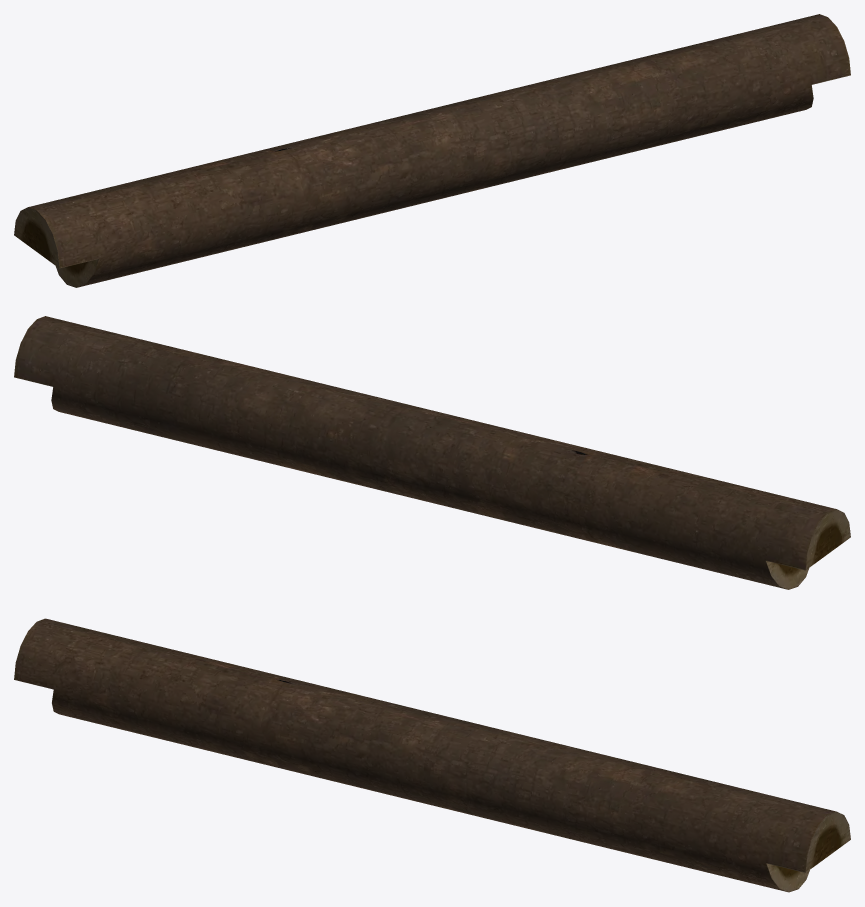
File: ThreeSupportAA.glb
3 renders of one model, top to bottom at view 1: azimuth 30°, elevation 25°; view 2: azimuth 150°, elevation 25°; view 3: azimuth 330°, elevation 25°, orthographic.
Visible parts, largest first — view 1: ThreeSupportAA; view 2: ThreeSupportAA; view 3: ThreeSupportAA.
Boxes of the visible parts, x1,y1,x2,y2 form: ThreeSupportAA: (14,14,850,287); ThreeSupportAA: (14,316,850,589); ThreeSupportAA: (14,618,850,892).
Bounding box in the file's own units: 2.01 × 0.1986 × 0.2001.
Materials: 1 (1 with a texture image).
